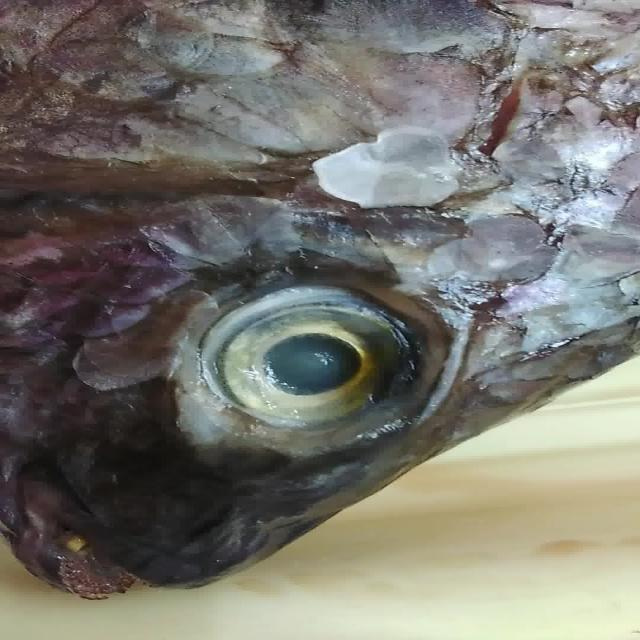Non-Fresh: (16, 9, 610, 270), (158, 281, 478, 453)
